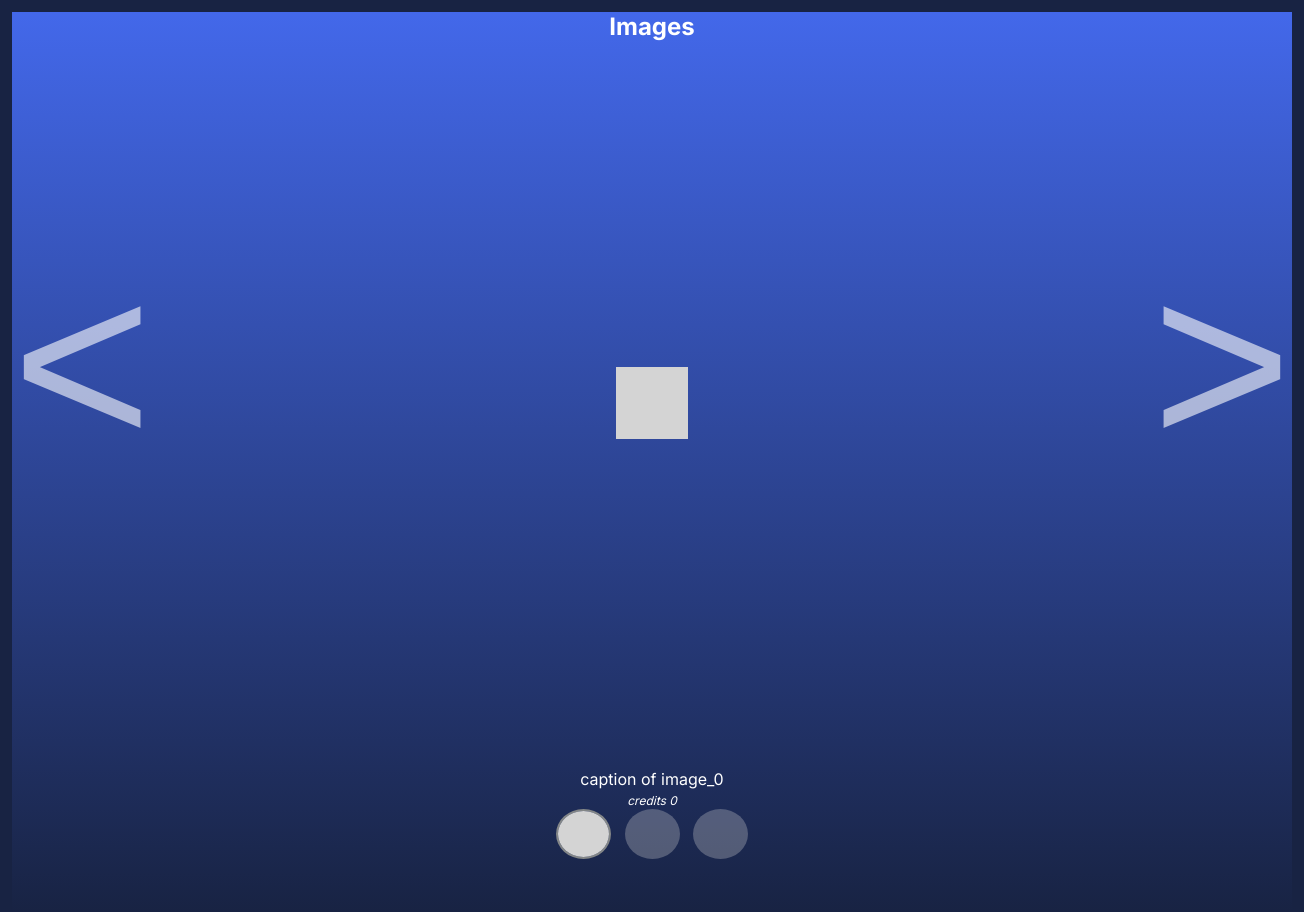
Test: imageCarousel component › Switches displayed image to the left when clicking on left arrow
Click the button "<" at [82, 362], box [12, 224, 152, 500]
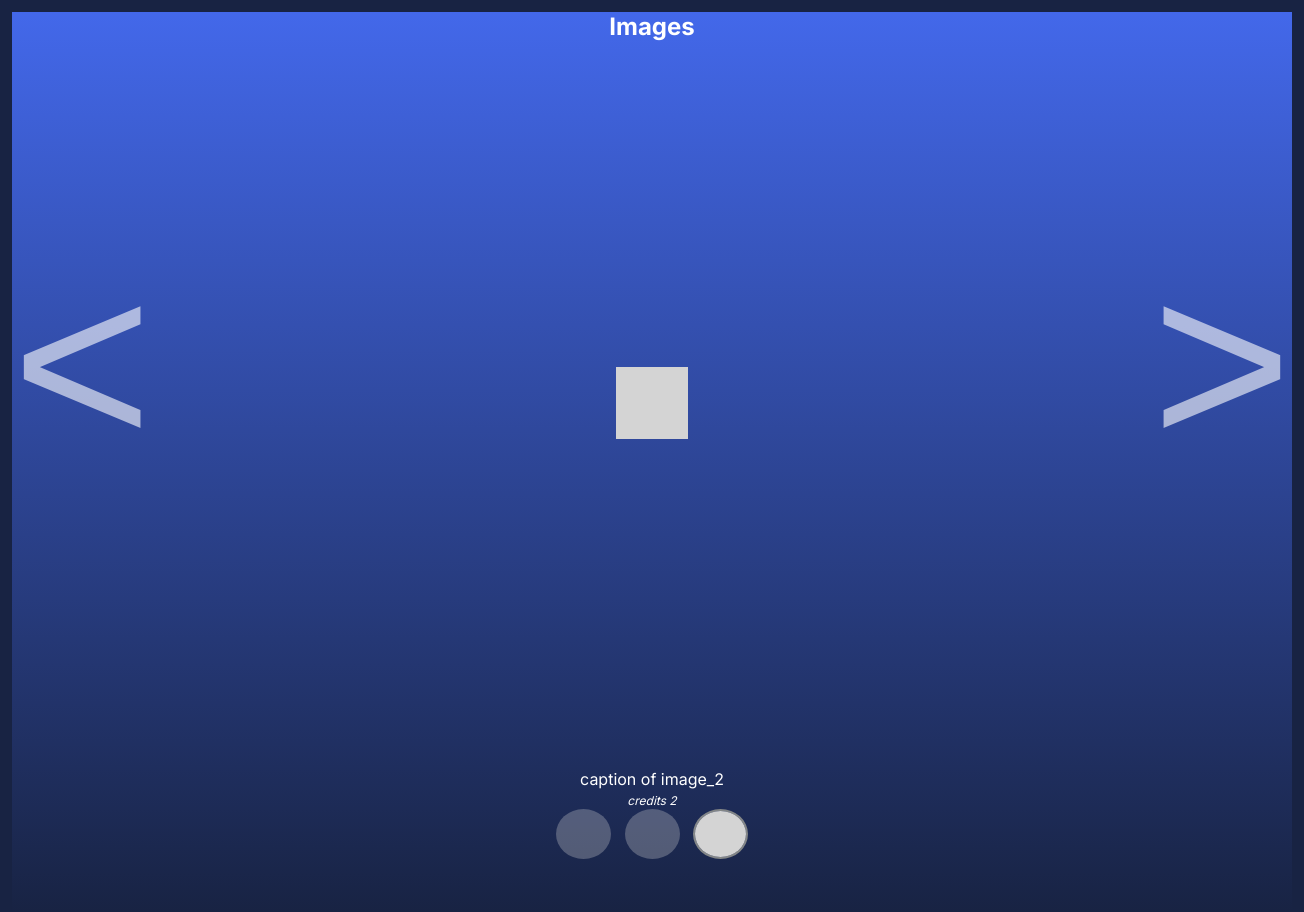
Expected: the element with test id "currentSlide" shows "caption of image_2", [580, 769, 724, 789]
Click the button "<" at [82, 362], box [12, 224, 152, 500]
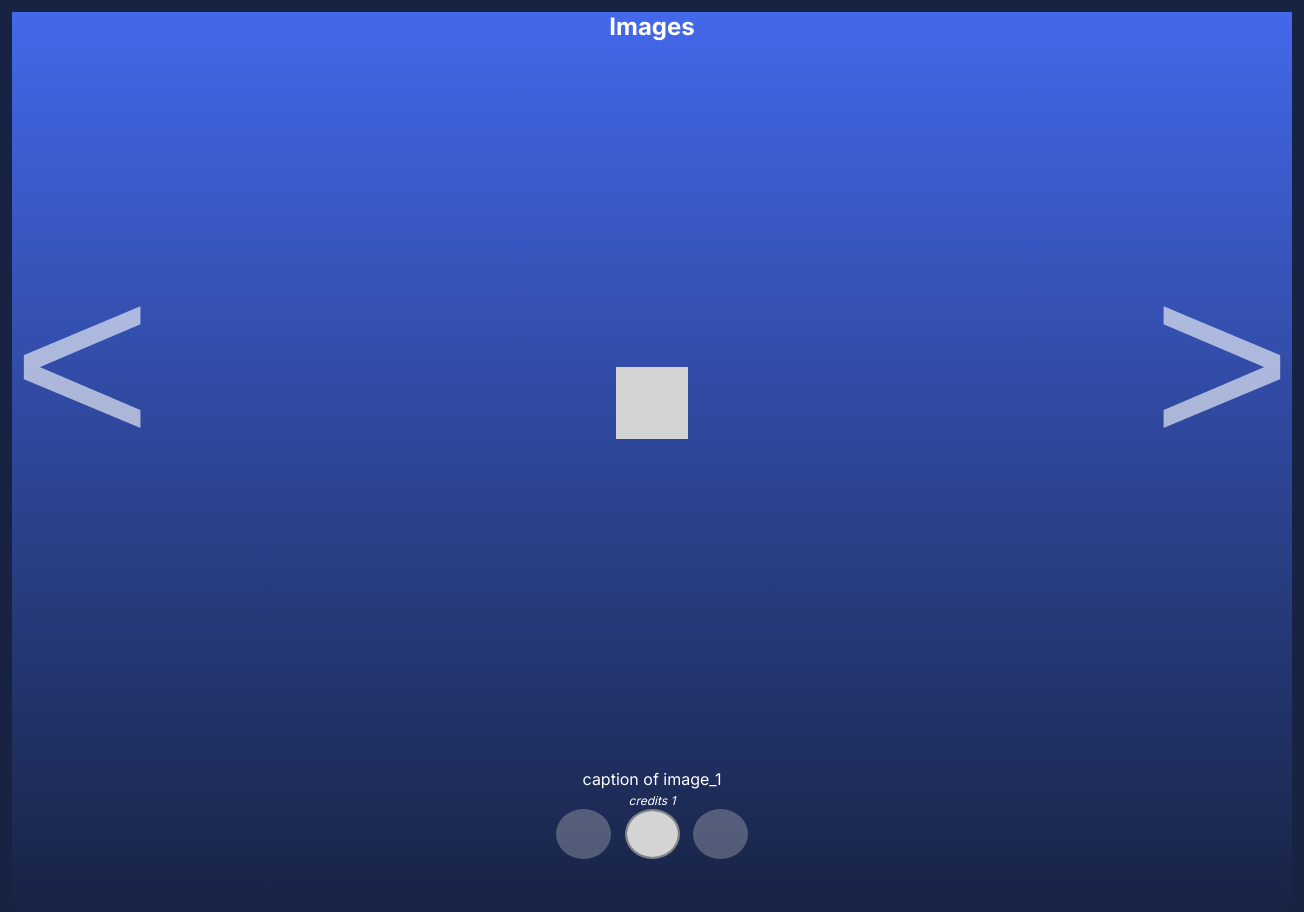
Expected: the element with test id "currentSlide" shows "caption of image_1", [583, 769, 721, 789]
